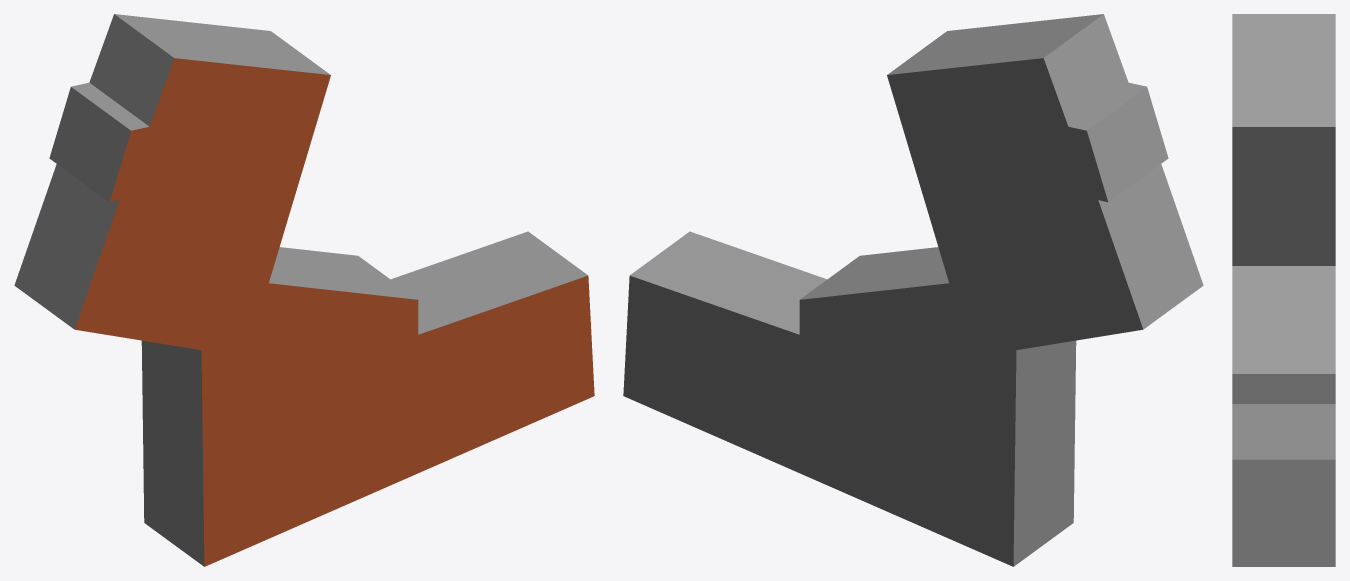
File: construction_3538_assumed_A_Casa_h6m.obj
3 views of the same model, side by side, from view 1: azimuth 30°, elevation 25°; view 2: azimuth 150°, elevation 25°; view 3: azimuth 270°, elevation 25° (orthographic). The views are drawn at different scales.
Parts seen in each view (by area): view 1: construction_3538_assumed_A_Casa; view 2: construction_3538_assumed_A_Casa; view 3: construction_3538_assumed_A_Casa.
Boxes of the visible parts, x1,y1,x2,y2 form: construction_3538_assumed_A_Casa: (14,14,594,566); construction_3538_assumed_A_Casa: (623,14,1203,566); construction_3538_assumed_A_Casa: (1232,14,1335,566).
Bounding box in the file's own units: 29.9 × 28.37 × 6.
